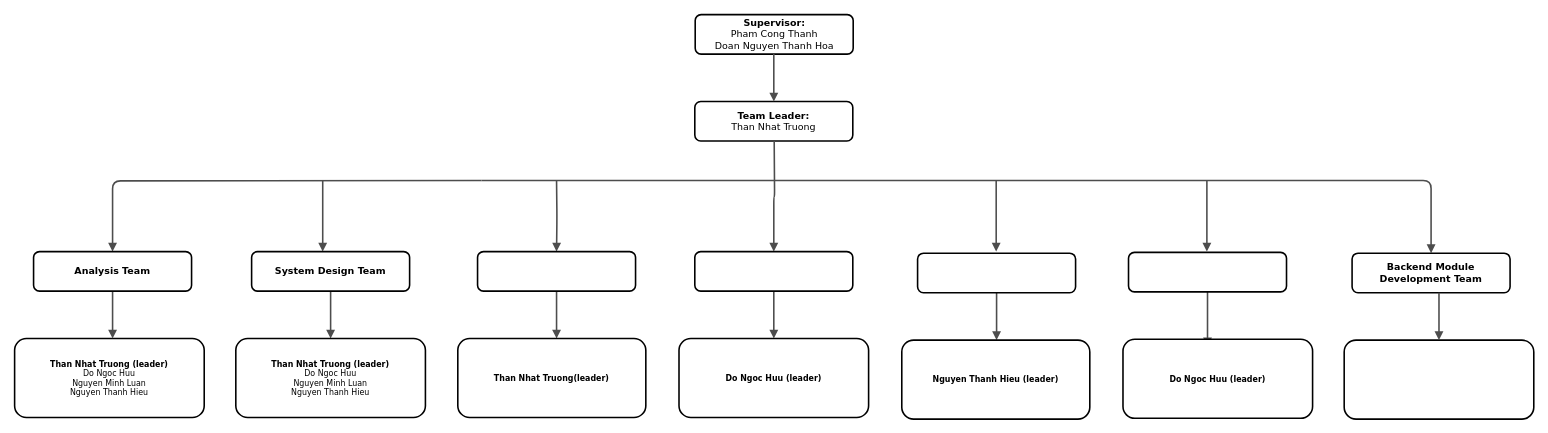
The diagram is 1548 pixels wide and 433 high, and some of its shapes have lost their labels. The shapes that lost their labels are listed below. From the top down, each one's centre as x and y in pixels, then its label:
At [556,271]: "Detection HotSpot Module Development Team".
At [773,271]: "Detection Emotion Module Development Team".
At [996,272]: "Mobile Module Development Team".
At [1207,271]: "Web Module Development Team".
At [1438,379]: "Nguyen Minh Luan (leader) Than Nhat Truong".
